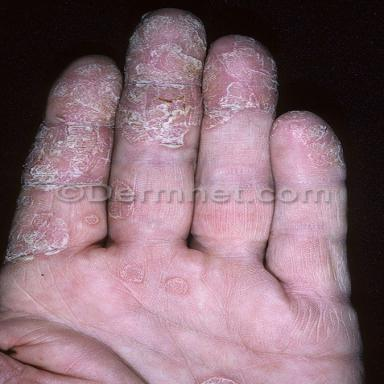eczema: (6, 56, 121, 261), (117, 9, 206, 147), (203, 35, 277, 128), (272, 111, 344, 171), (119, 264, 145, 282), (108, 200, 132, 219), (165, 277, 188, 294), (110, 179, 131, 188), (85, 214, 98, 224)
